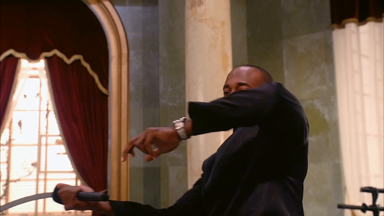bladed_weapon: (0, 189, 107, 214), (335, 200, 382, 213)
